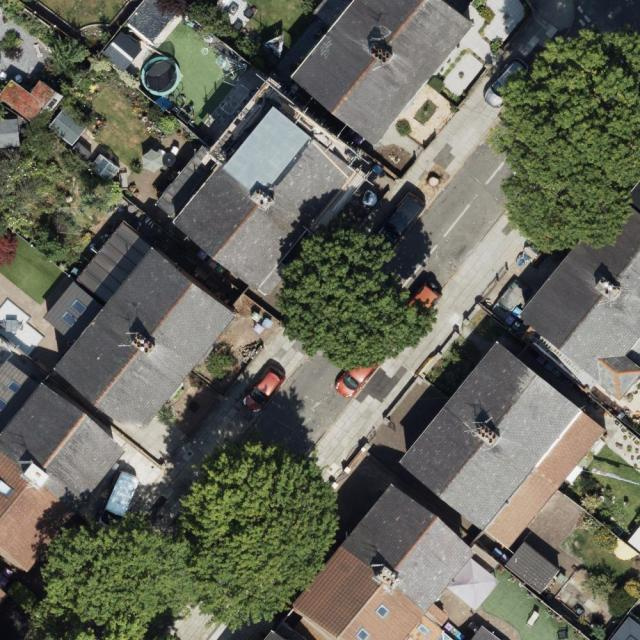roof: (394, 335, 610, 557), (147, 99, 377, 307), (39, 214, 239, 435), (292, 479, 480, 640), (0, 353, 131, 577), (289, 0, 478, 149), (513, 191, 640, 410), (502, 543, 563, 597)
skylight: (4, 378, 28, 398), (68, 297, 89, 317), (0, 477, 16, 500), (56, 311, 77, 327), (377, 599, 391, 620), (1, 395, 12, 418), (354, 626, 372, 640), (416, 621, 431, 637)
